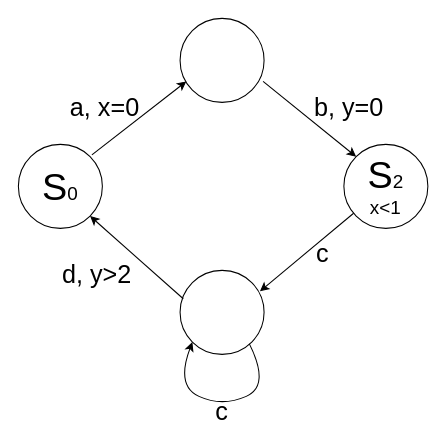
This 446x446 diagram has some shape labels left out. The shapes that lost their labels are listed below. From the top down, each one's box as (x1, y1, x2, y2) in pixels, then its label:
(179, 17, 264, 102): S 1 x<1
(179, 269, 264, 354): S 3
